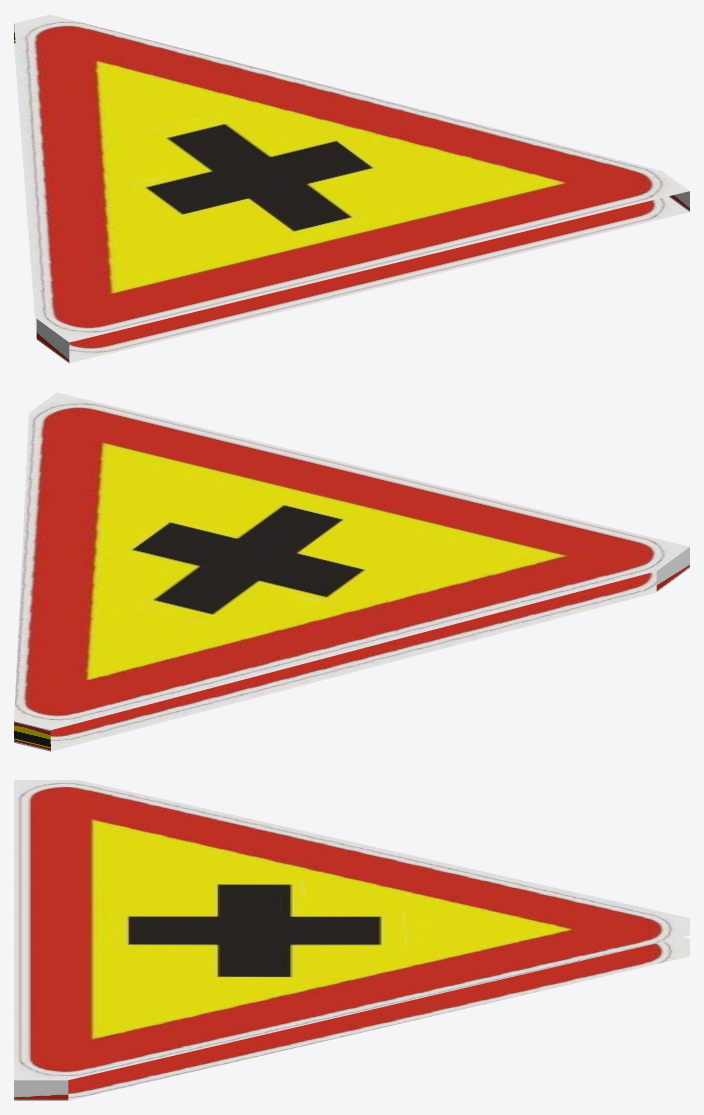
File: CrossSign.fbx
3 renders of one model, top to bottom at view 1: azimuth 30°, elevation 25°; view 2: azimuth 150°, elevation 25°; view 3: azimuth 270°, elevation 25°, orthographic. The views are drawn at different scales.
Parts seen in each view (by area): view 1: Box001; view 2: Box001; view 3: Box001.
Boxes of the visible parts, bbox=[...] form: Box001: bbox=[14, 14, 689, 363]; Box001: bbox=[14, 392, 689, 751]; Box001: bbox=[14, 780, 689, 1100].
Bounding box in the file's own units: 59.85 × 1.93 × 56.96.
Materials: 1 (1 with a texture image).
